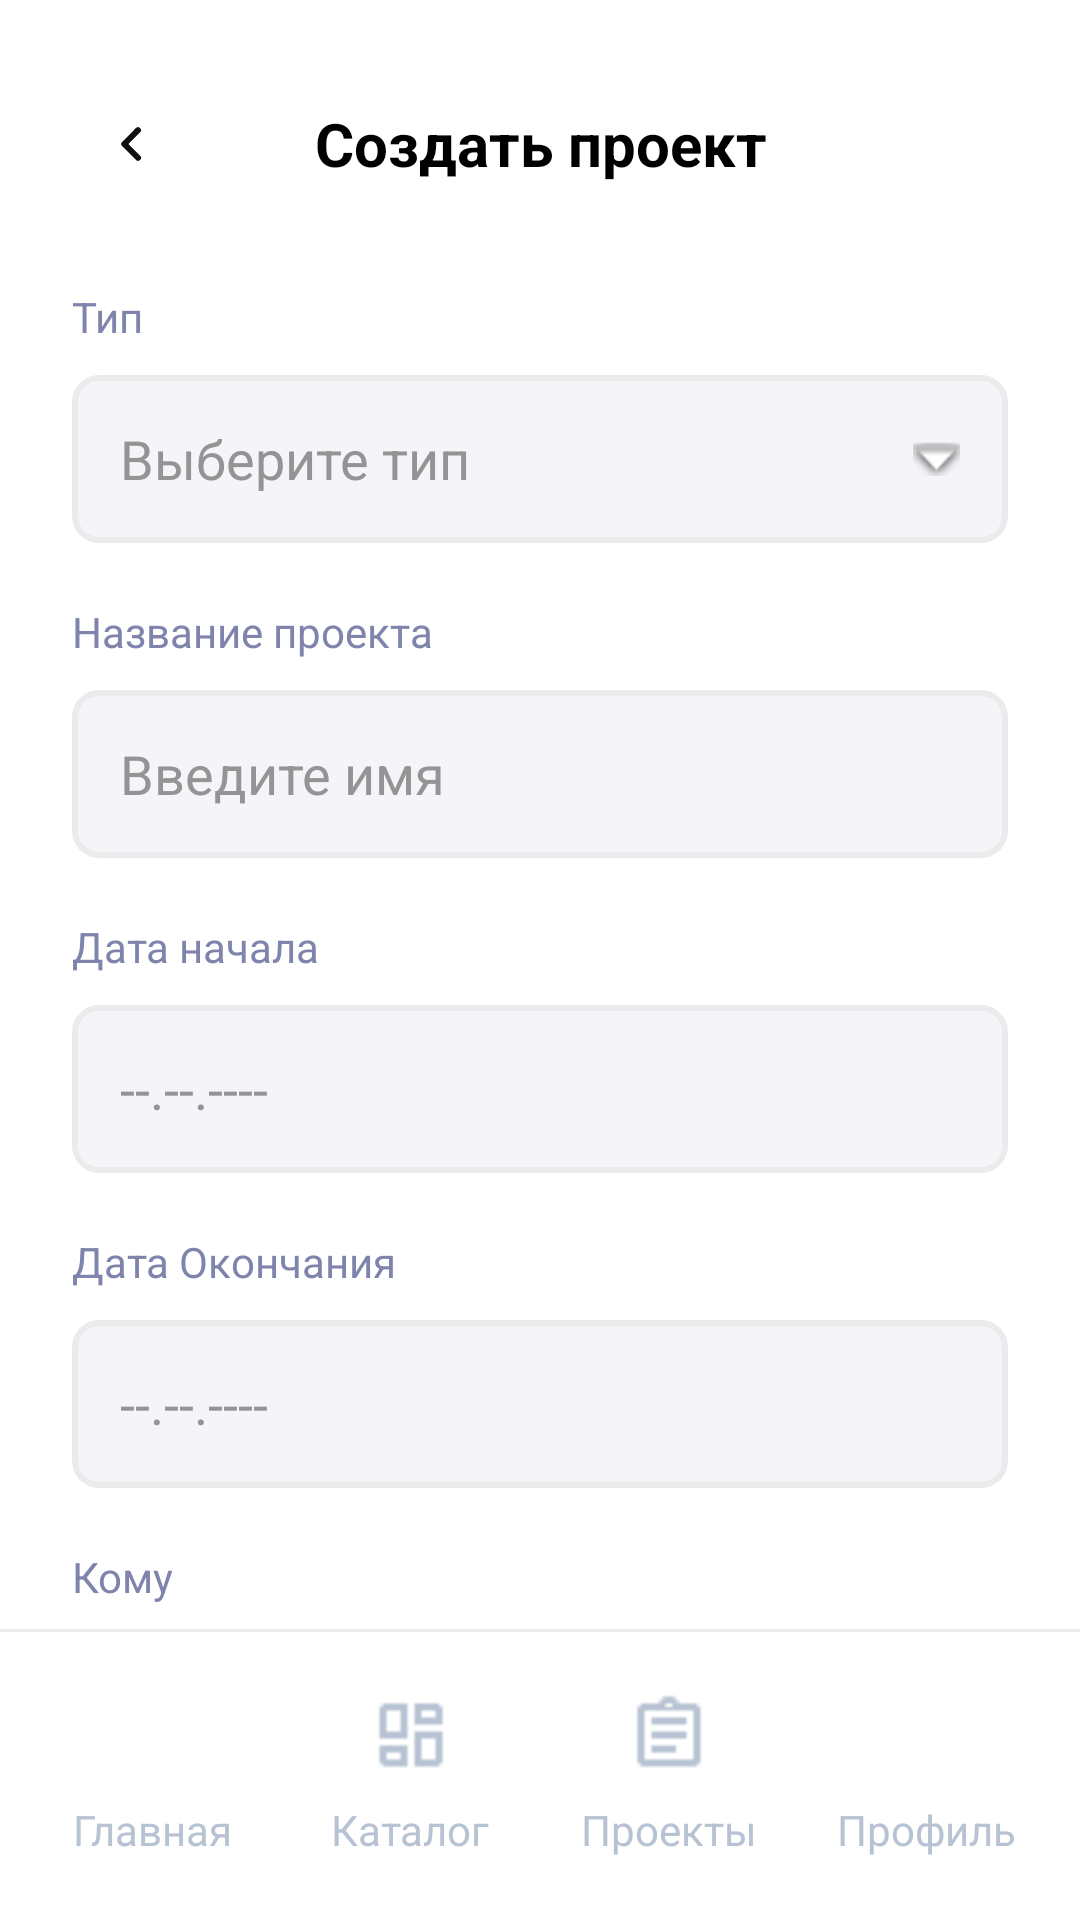

Icons on this 1080px x 1920px Android screen, each with the point to tap as point (x, y):
catalog page: point (411, 1735)
projects page: point (669, 1731)
Назад: point (131, 144)
